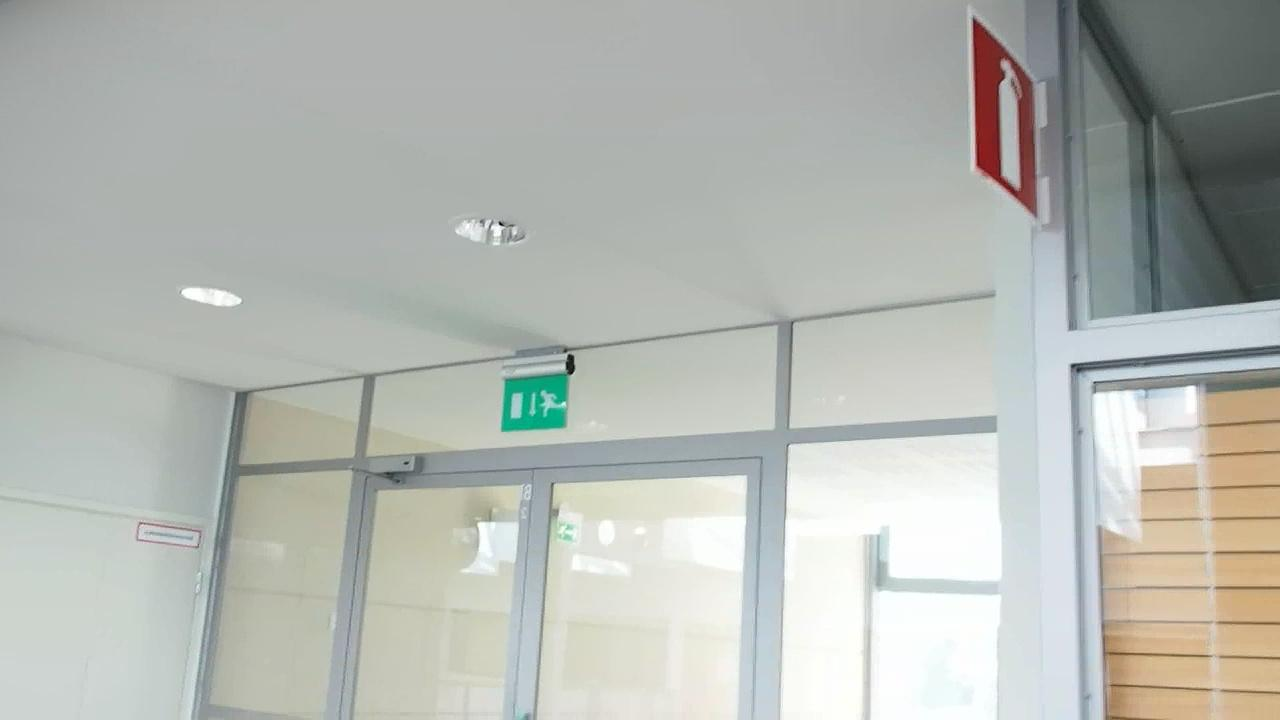exit: (498, 381, 569, 438)
fireextinguisher: (977, 30, 1049, 199)
